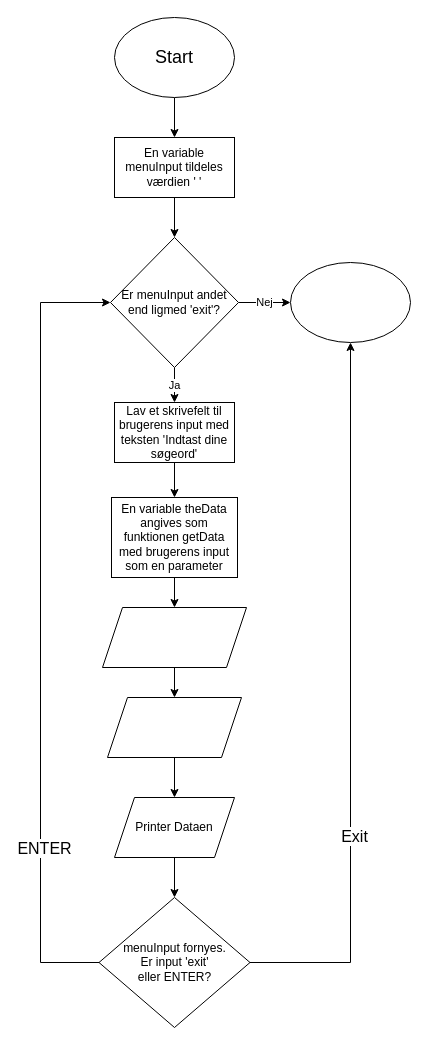
This 428x1045 diagram has some shape labels left out. Each missing label, with the box of its shape:
Printer antallet af resultater for søgeordene: (106, 696, 242, 758)
Printer statussen for programmet: (102, 606, 246, 668)
Slut: (290, 262, 410, 342)
